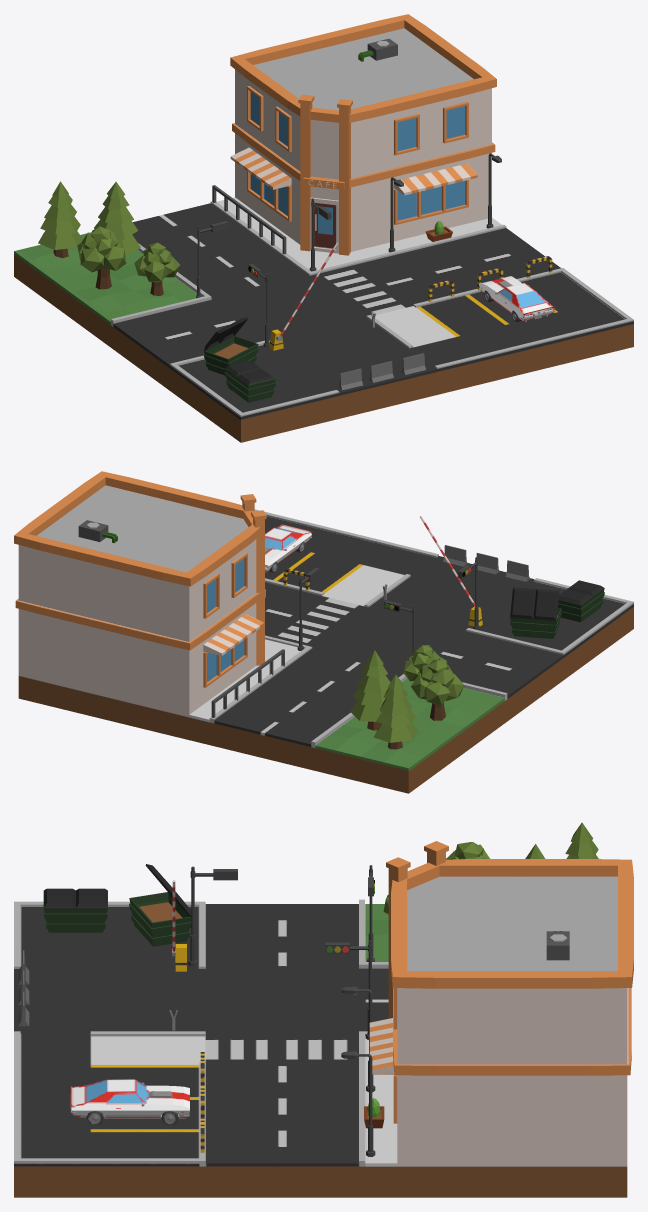
The model's file is Miasto scena.fbx.
3 renders of one model, top to bottom at view 1: azimuth 30°, elevation 25°; view 2: azimuth 150°, elevation 25°; view 3: azimuth 270°, elevation 25°, orthographic. The views are drawn at different scales.
Visible parts, largest first — view 1: ParkingLot; view 2: ParkingLot; view 3: ParkingLot.
Part boxes in pixels (left/top/right/bottom): ParkingLot: left=14, top=14, right=633, bottom=442; ParkingLot: left=14, top=471, right=633, bottom=793; ParkingLot: left=14, top=822, right=633, bottom=1197.
Size of the model in its own units: 3032 by 1287 by 3032.
